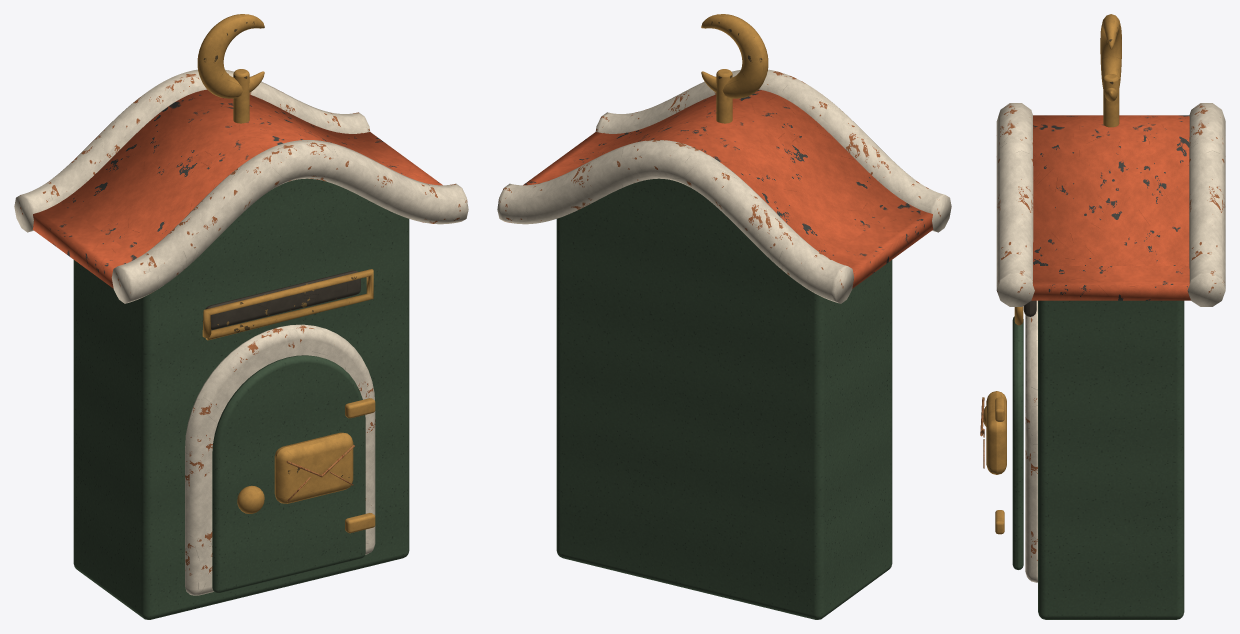
Rendered from S3_邮局门口信箱_分享包版.glb.
3 views of the same model, side by side, from view 1: azimuth 30°, elevation 25°; view 2: azimuth 150°, elevation 25°; view 3: azimuth 270°, elevation 25° (orthographic). The views are drawn at different scales.
Visible parts, largest first — view 1: Closed sage gable joining roof, Sage mailbox door, Curved red roof, Rounded ivory pitched trim, Ivory arch surround, Rounded ivory pitched trim.001, Envelope brass backing, Brass slot rim, Dark letter slot, Rounded crescent, Attached crescent stem, Door knob; view 2: Closed sage gable joining roof, Curved red roof, Rounded ivory pitched trim.001, Rounded ivory pitched trim, Rounded crescent, Attached crescent stem; view 3: Closed sage gable joining roof, Curved red roof, Rounded ivory pitched trim, Rounded ivory pitched trim.001, Ivory arch surround, Sage mailbox door, Envelope brass backing, Rounded crescent, Attached crescent stem.
Part boxes in pixels (left/top/right/bottom): Closed sage gable joining roof: left=73, top=178, right=409, bottom=619; Sage mailbox door: left=212, top=355, right=365, bottom=592; Curved red roof: left=32, top=89, right=442, bottom=288; Rounded ivory pitched trim: left=111, top=140, right=468, bottom=303; Ivory arch surround: left=185, top=324, right=375, bottom=595; Rounded ivory pitched trim.001: left=14, top=69, right=370, bottom=232; Envelope brass backing: left=274, top=432, right=353, bottom=503; Brass slot rim: left=202, top=269, right=373, bottom=340; Dark letter slot: left=205, top=270, right=360, bottom=329; Rounded crescent: left=197, top=14, right=264, bottom=98; Attached crescent stem: left=233, top=69, right=249, bottom=123; Door knob: left=237, top=485, right=264, bottom=513; Closed sage gable joining roof: left=556, top=178, right=892, bottom=619; Curved red roof: left=523, top=89, right=933, bottom=288; Rounded ivory pitched trim.001: left=497, top=140, right=854, bottom=303; Rounded ivory pitched trim: left=595, top=69, right=951, bottom=232; Rounded crescent: left=701, top=14, right=768, bottom=98; Attached crescent stem: left=716, top=69, right=732, bottom=123; Closed sage gable joining roof: left=1038, top=300, right=1184, bottom=619; Curved red roof: left=1031, top=115, right=1190, bottom=300; Rounded ivory pitched trim: left=996, top=103, right=1034, bottom=306; Rounded ivory pitched trim.001: left=1187, top=103, right=1225, bottom=306; Ivory arch surround: left=1025, top=300, right=1037, bottom=582; Sage mailbox door: left=1012, top=316, right=1023, bottom=569; Envelope brass backing: left=986, top=391, right=1006, bottom=474; Rounded crescent: left=1100, top=14, right=1121, bottom=101; Attached crescent stem: left=1103, top=74, right=1119, bottom=127.
Bounding box in the file's own units: 1.2 × 1.87 × 0.7718.
6 materials, 6 textured.
